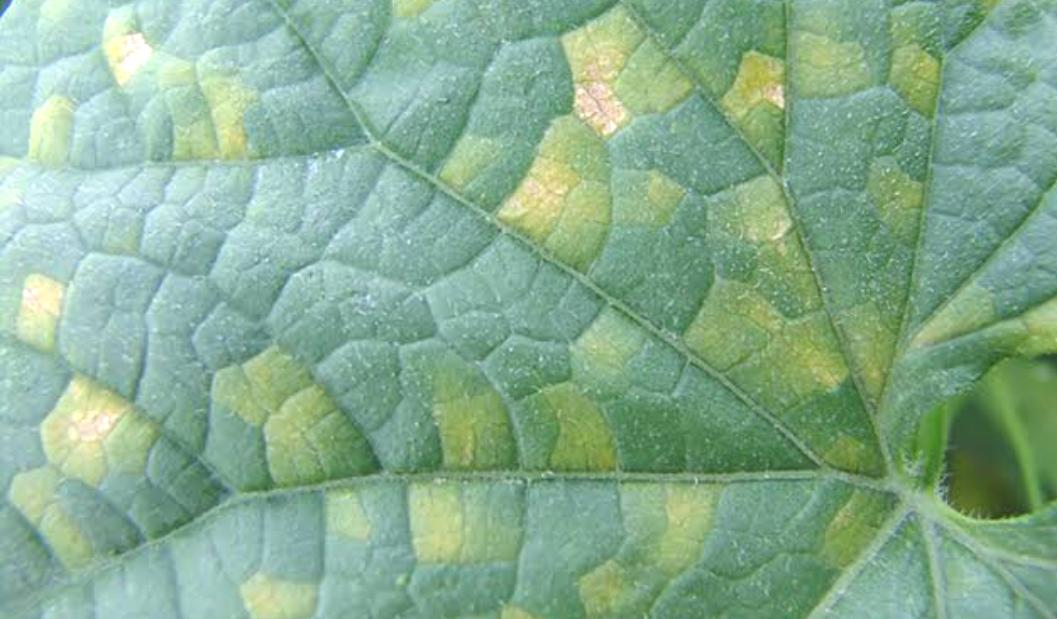Bok-Choy-Diseased: (19, 22, 895, 619)
